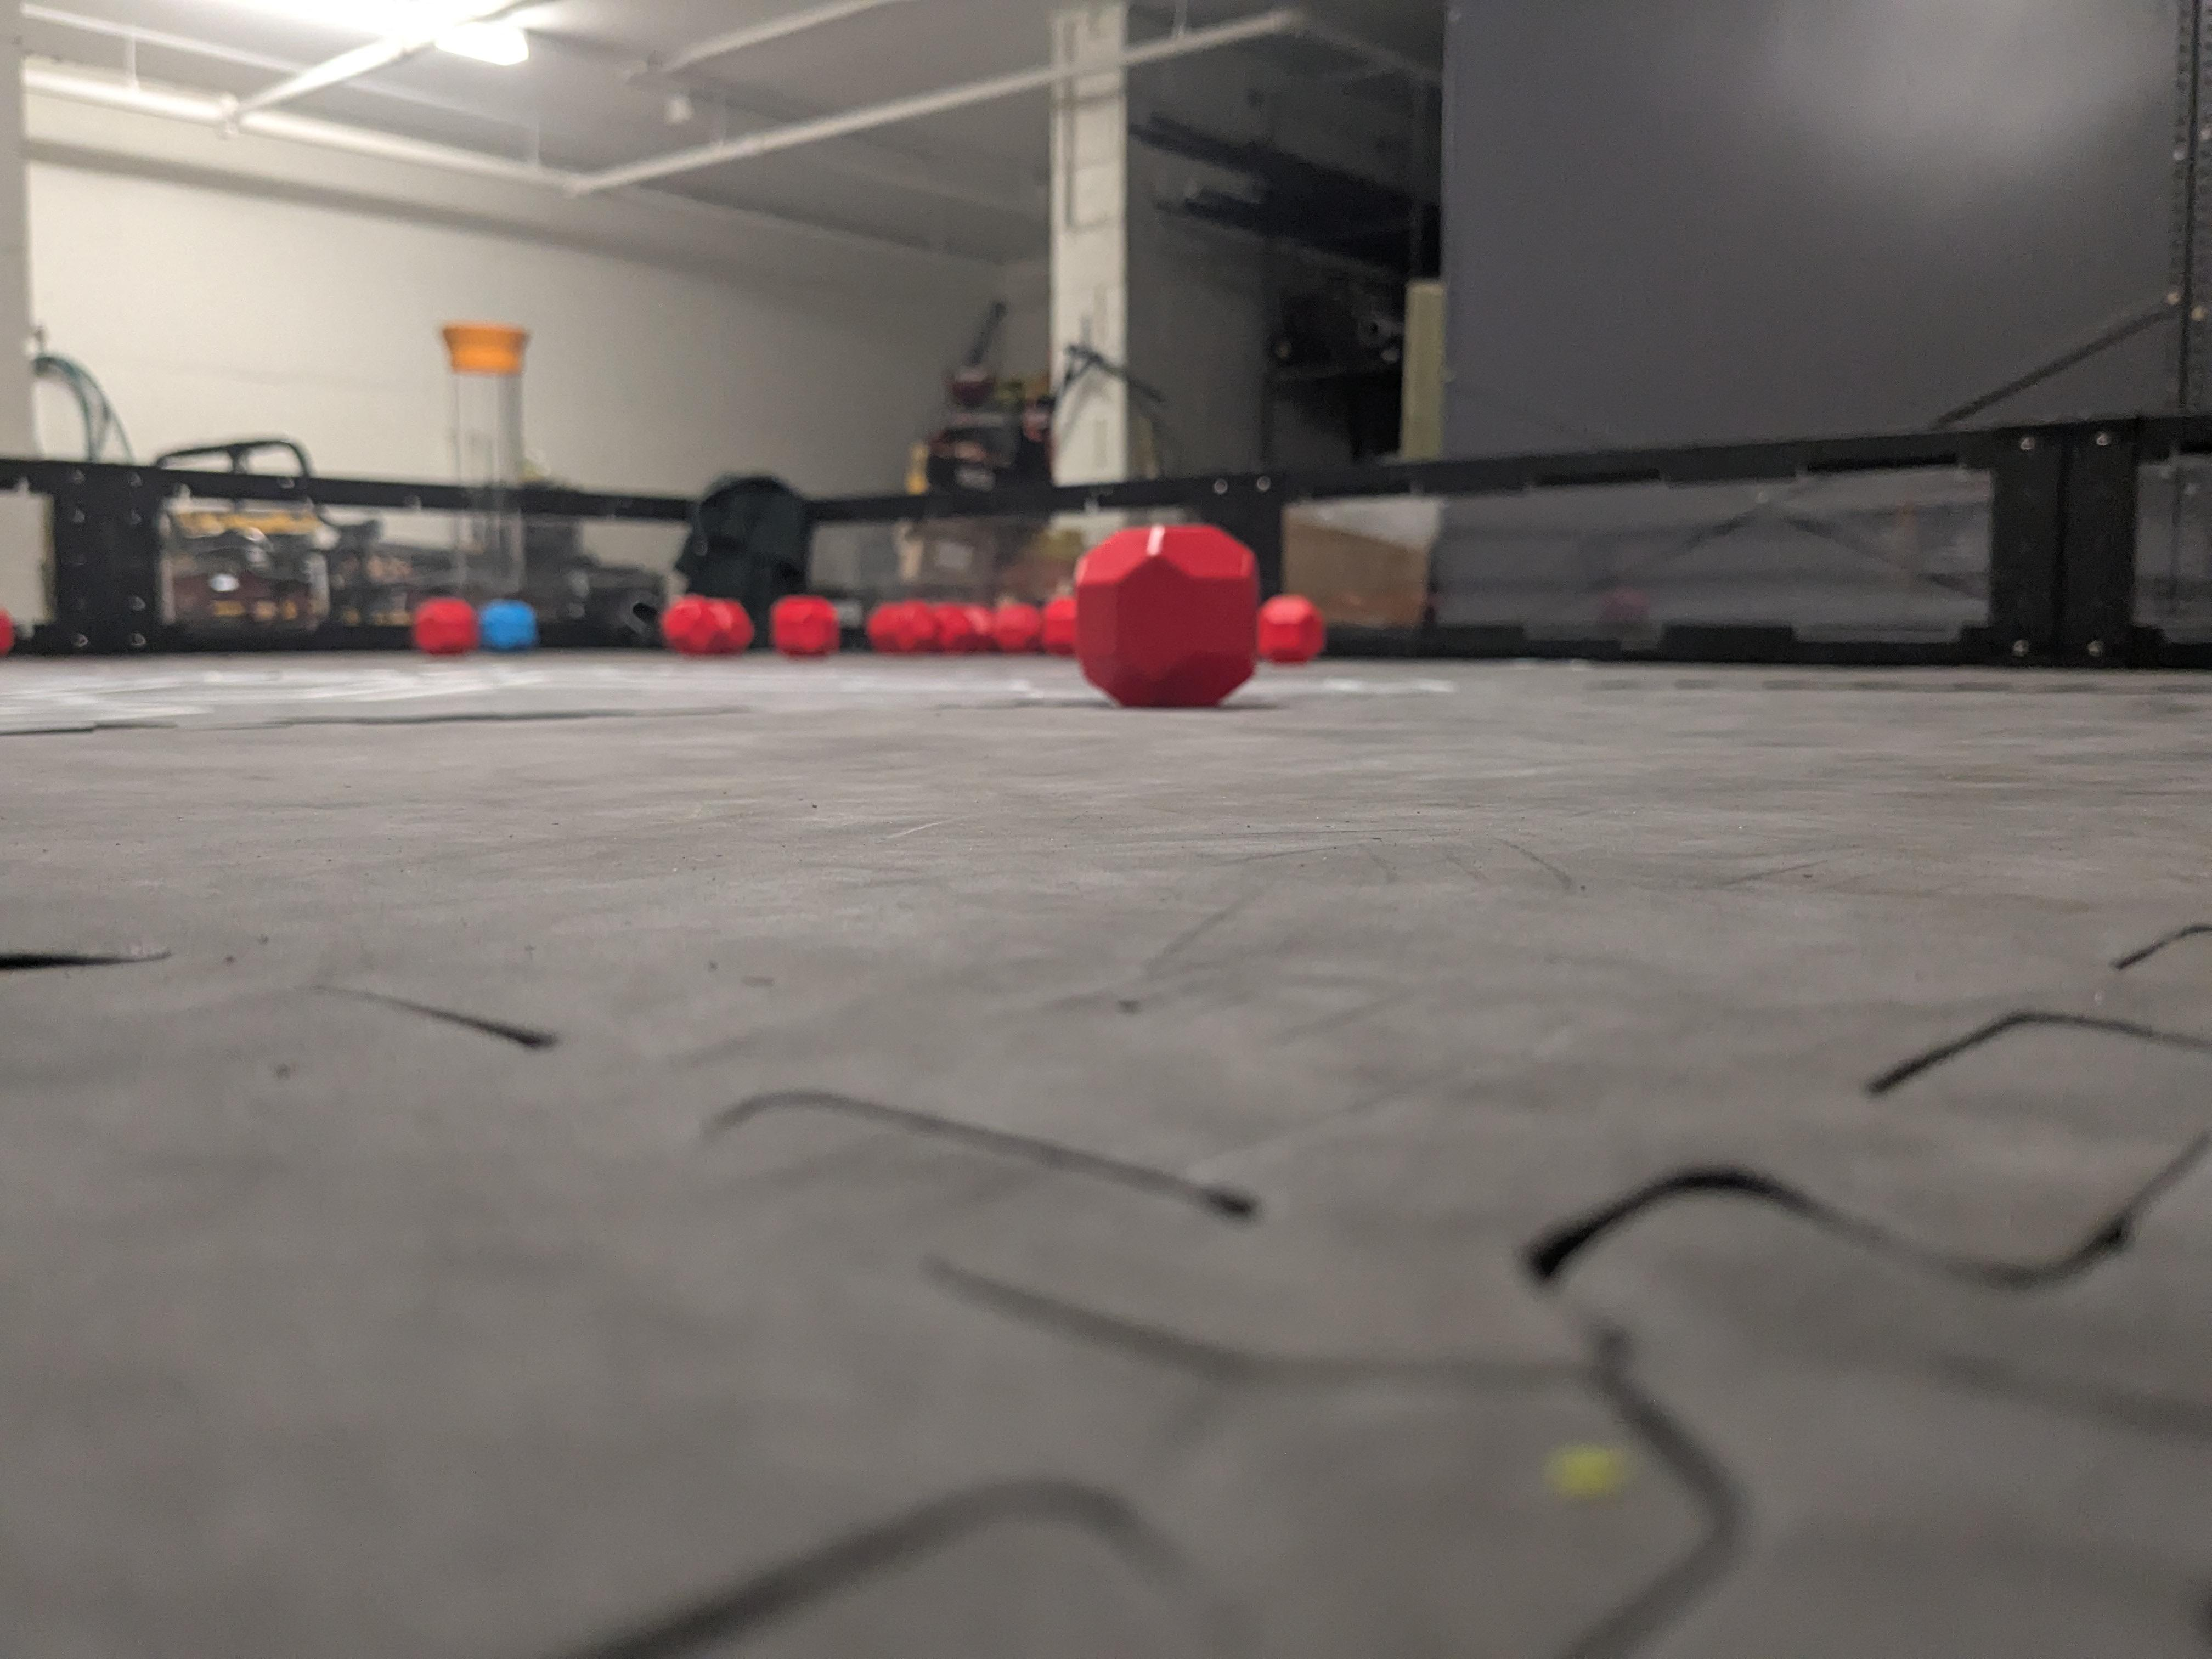Vex-Pieces-RED: (1078, 526, 1258, 702), (660, 594, 752, 655), (1258, 594, 1325, 664), (772, 594, 841, 657), (411, 596, 479, 655), (867, 601, 937, 653), (932, 603, 989, 653), (991, 601, 1043, 653), (1042, 596, 1076, 655)
